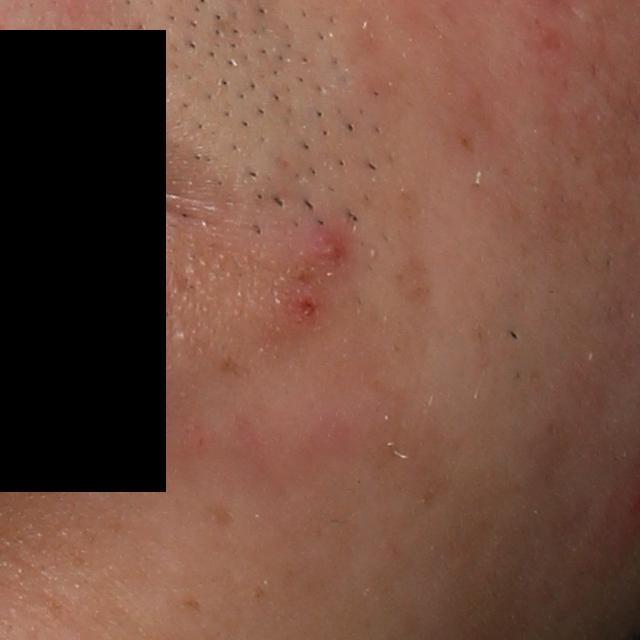papule: (311, 230, 356, 268), (288, 288, 325, 324)
